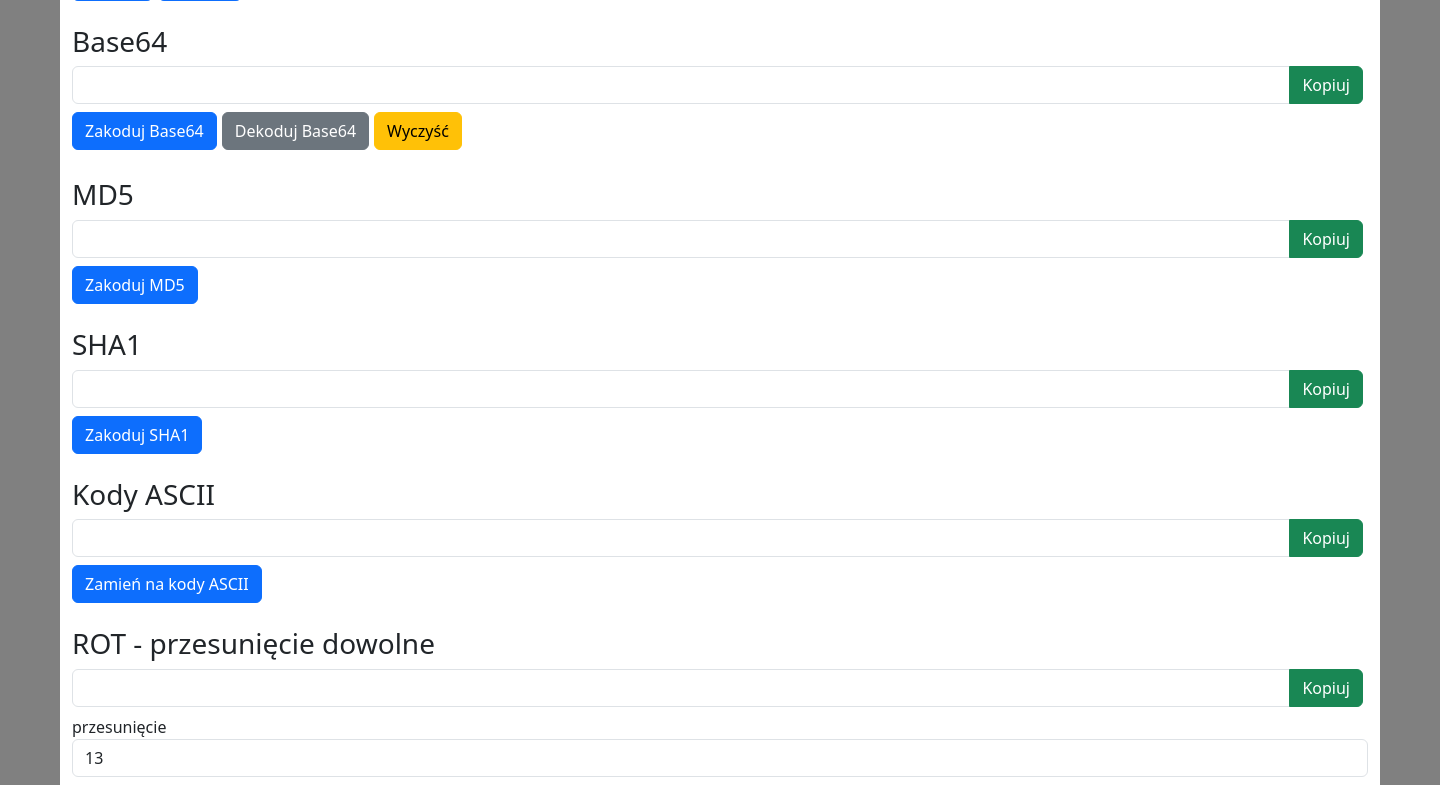
Test: App Component Tests › sprawdź SHA1
(page scrolled)
In the 3rd field named "input_sha1": [681, 389] box [72, 370, 1290, 408], type "1234"
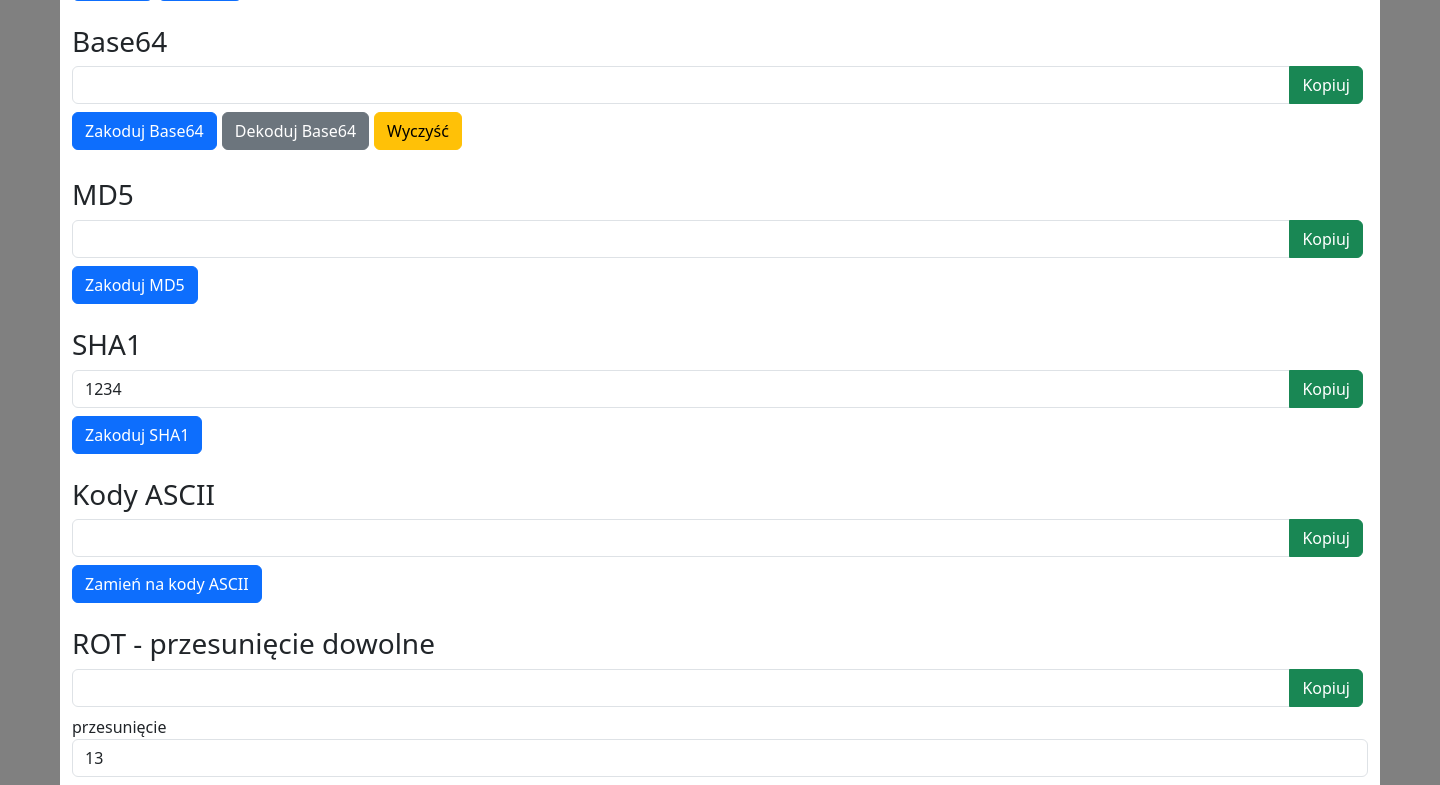
Click the button "Zakoduj SHA1": [137, 435] box [72, 416, 202, 454]
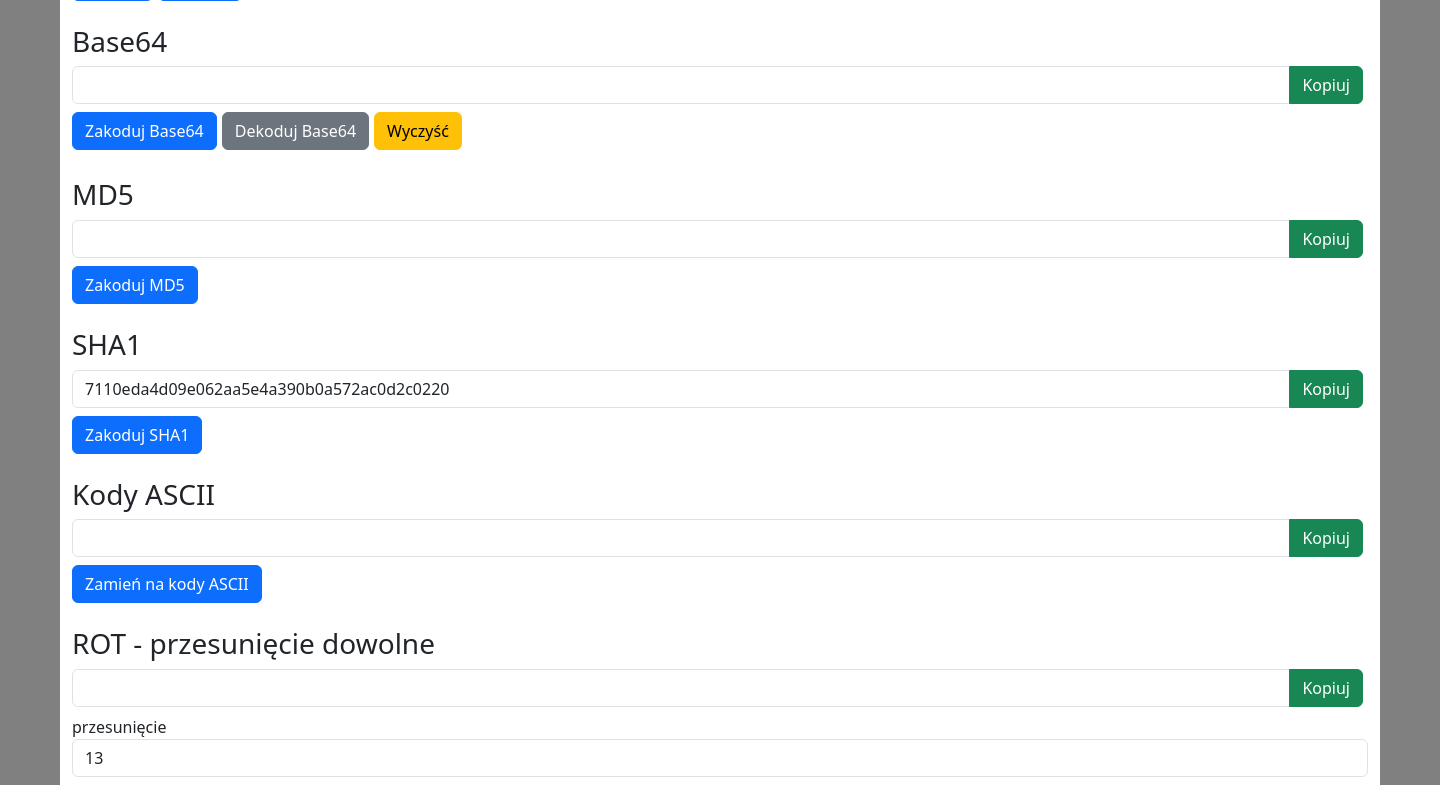
Expected: the 3rd field named "input_sha1" holds "7110eda4d09e062aa5e4a390b0a572ac0d2c0220", [72, 370, 1290, 408]
